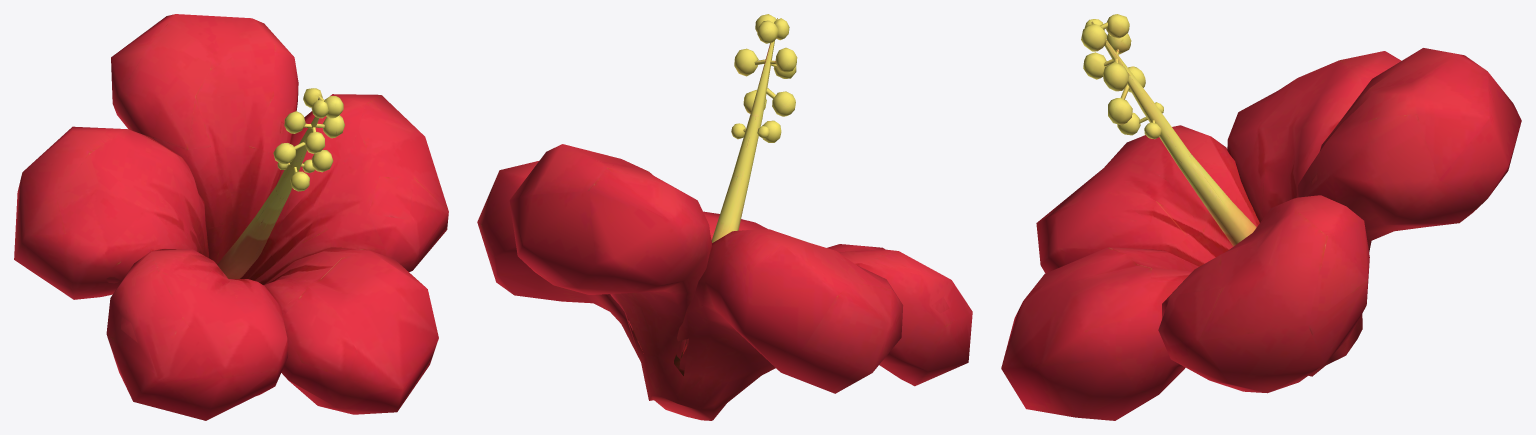
The model's file is test_hibiscus.glb.
3 renders of one model, left to right at view 1: azimuth 30°, elevation 25°; view 2: azimuth 150°, elevation 25°; view 3: azimuth 270°, elevation 25°, orthographic. The views are drawn at different scales.
Visible parts, largest first — view 1: Mesh_0; view 2: Mesh_0; view 3: Mesh_0.
Part boxes in pixels (x1=…): Mesh_0: x1=14, y1=14, x2=448, y2=420; Mesh_0: x1=477, y1=14, x2=972, y2=420; Mesh_0: x1=1001, y1=14, x2=1521, y2=420.
Size of the model in its own units: 1 by 0.793 by 0.9805.
1 material, 1 textured.
